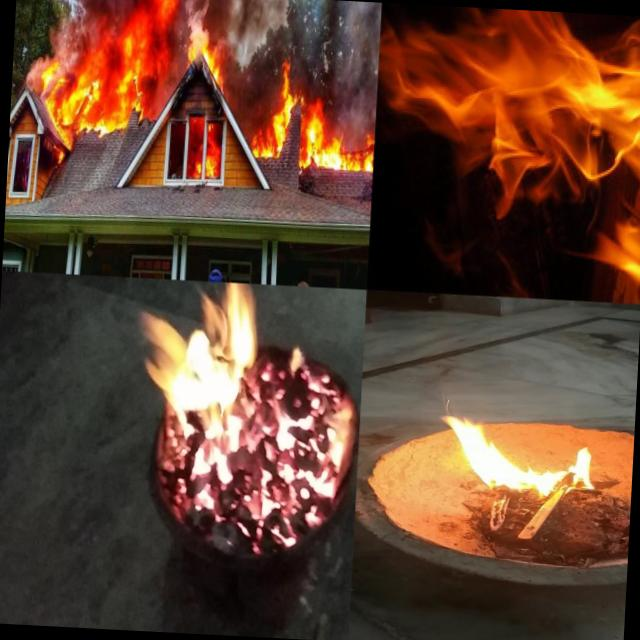fire: (370, 3, 640, 304), (130, 278, 274, 432), (262, 327, 360, 544), (432, 400, 608, 510), (148, 426, 266, 558), (84, 34, 155, 135), (300, 107, 376, 178), (252, 75, 293, 152), (193, 31, 230, 96), (124, 0, 176, 37), (186, 126, 218, 180), (0, 56, 23, 130)
smoke: (302, 0, 380, 134), (224, 26, 258, 146), (166, 0, 308, 27), (44, 10, 78, 90), (152, 41, 190, 111), (22, 31, 58, 104), (76, 0, 142, 34)
